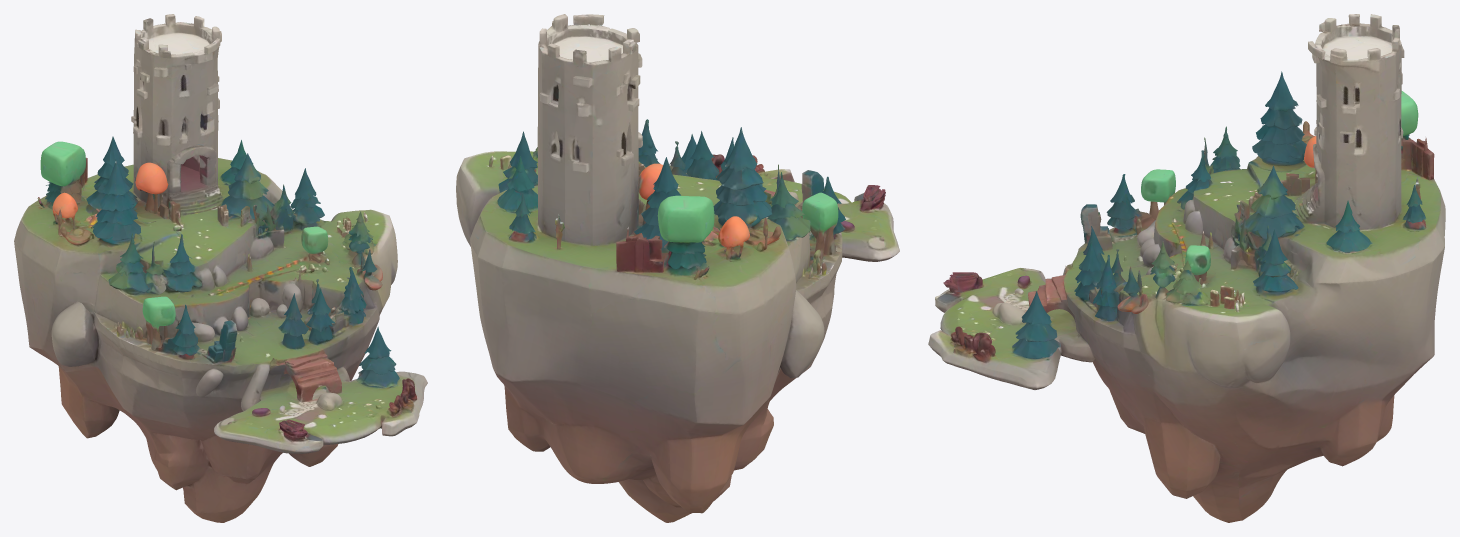
The model's file is iceland_island-transformed.glb.
The picture shows the model from 3 angles, left to right: view 1: azimuth 30°, elevation 25°; view 2: azimuth 150°, elevation 25°; view 3: azimuth 270°, elevation 25°; orthographic projection. The views are drawn at different scales.
Visible parts, largest first — view 1: model; view 2: model; view 3: model.
Boxes of the visible parts, x1=… form: model: x1=14, y1=14, x2=427, y2=522; model: x1=456, y1=14, x2=899, y2=522; model: x1=928, y1=14, x2=1445, y2=522.
Size of the model in its own units: 1.29 by 1.71 by 1.62.
Materials: 1 (1 with a texture image).
